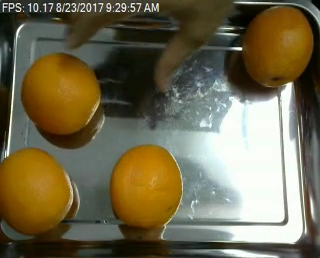Orange: (19, 52, 100, 134), (1, 148, 74, 232), (110, 144, 183, 227), (242, 5, 315, 87)
